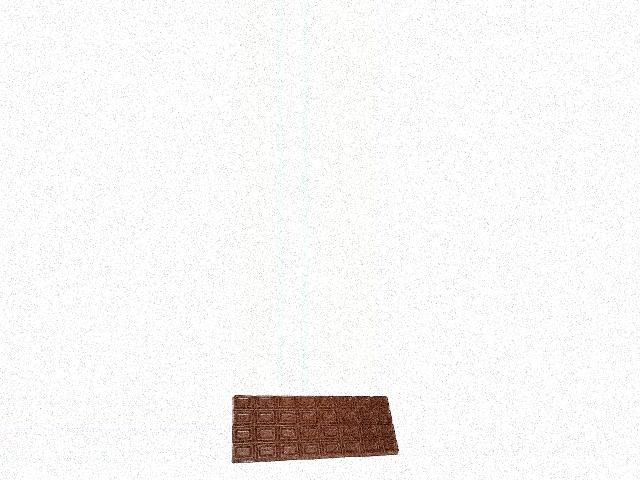chocolate: (230, 395, 400, 461)
